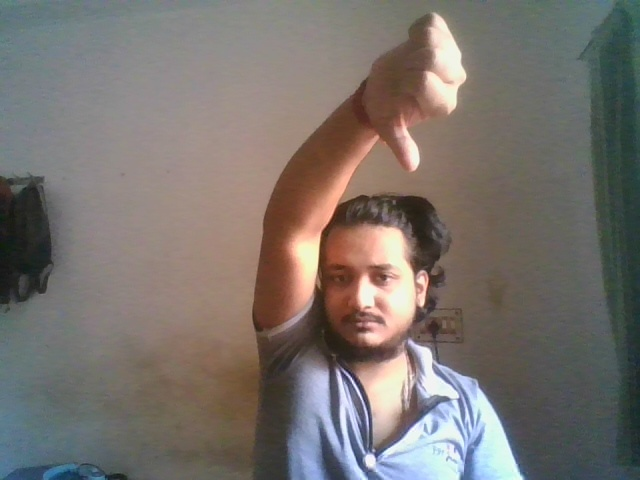ThumbsDown: (365, 13, 467, 174)
